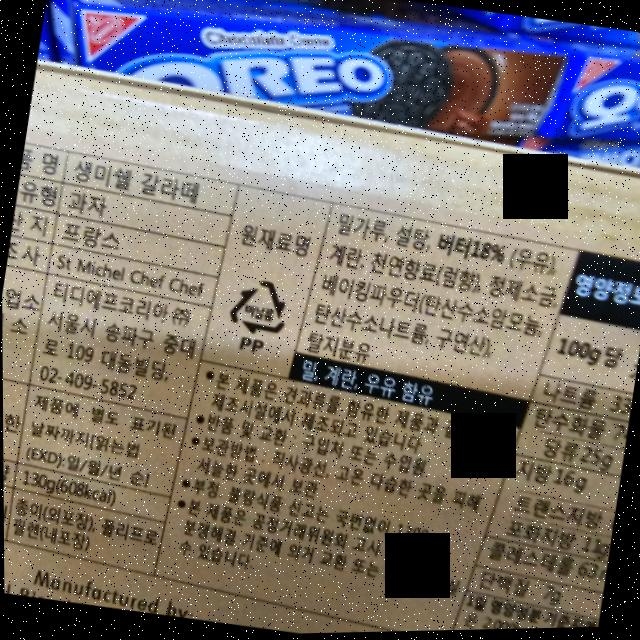Vinyl: (220, 273, 294, 342)
